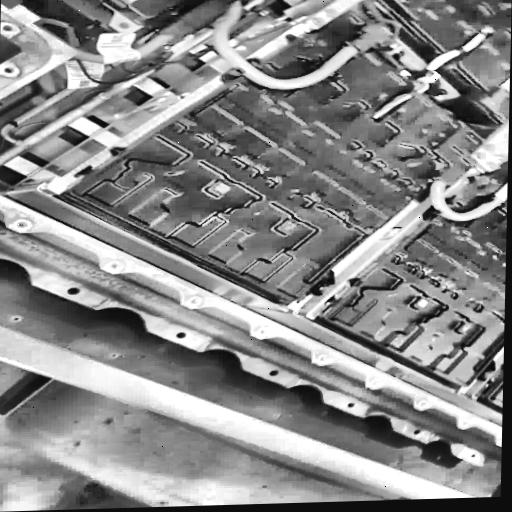battery_module: (204, 0, 390, 106), (419, 160, 508, 227)
low_volt_cable: (365, 24, 503, 126)
